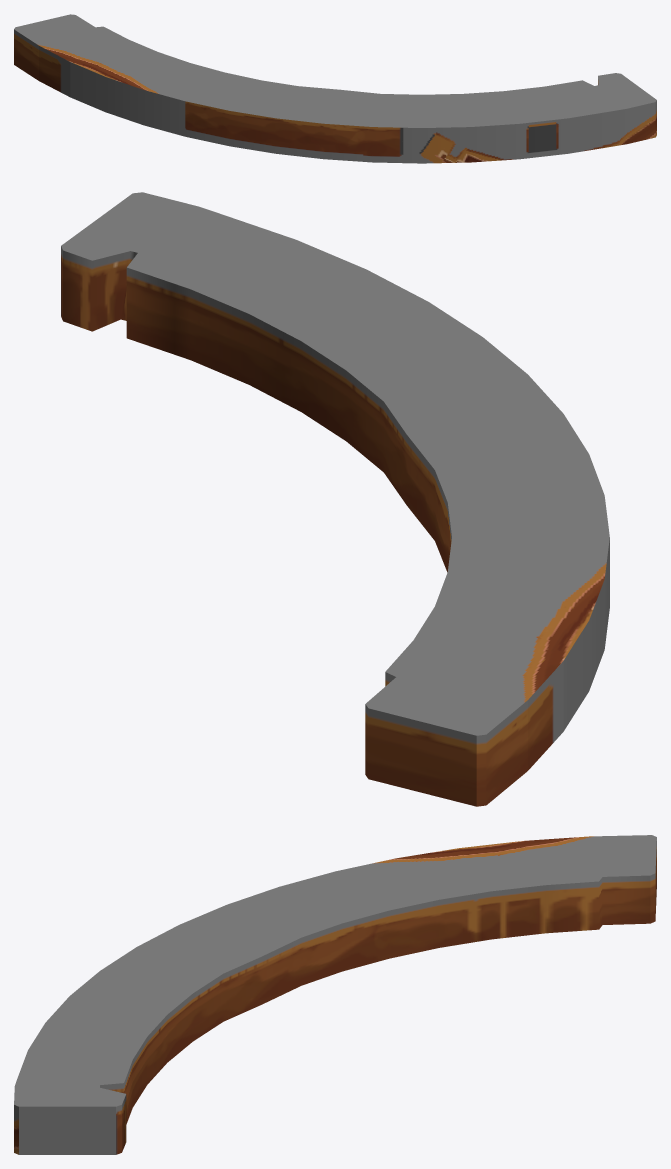
The model's file is curved_02.fbx.
3 renders of one model, top to bottom at view 1: azimuth 30°, elevation 25°; view 2: azimuth 150°, elevation 25°; view 3: azimuth 270°, elevation 25°, orthographic. The views are drawn at different scales.
Visible parts, largest first — view 1: curved_02; view 2: curved_02; view 3: curved_02.
Part boxes in pixels (bbox=[...]): curved_02: bbox=[14, 14, 656, 163]; curved_02: bbox=[61, 192, 609, 806]; curved_02: bbox=[14, 835, 656, 1154].
Size of what is drawn, in the model's own units: 6 by 0.4958 by 6.
